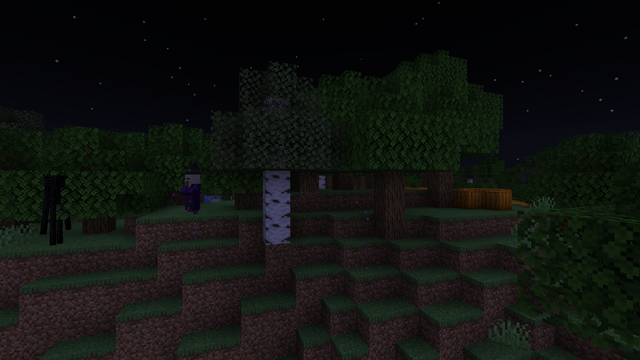endermens: (41, 172, 69, 245)
sorcieres: (184, 172, 199, 214)
